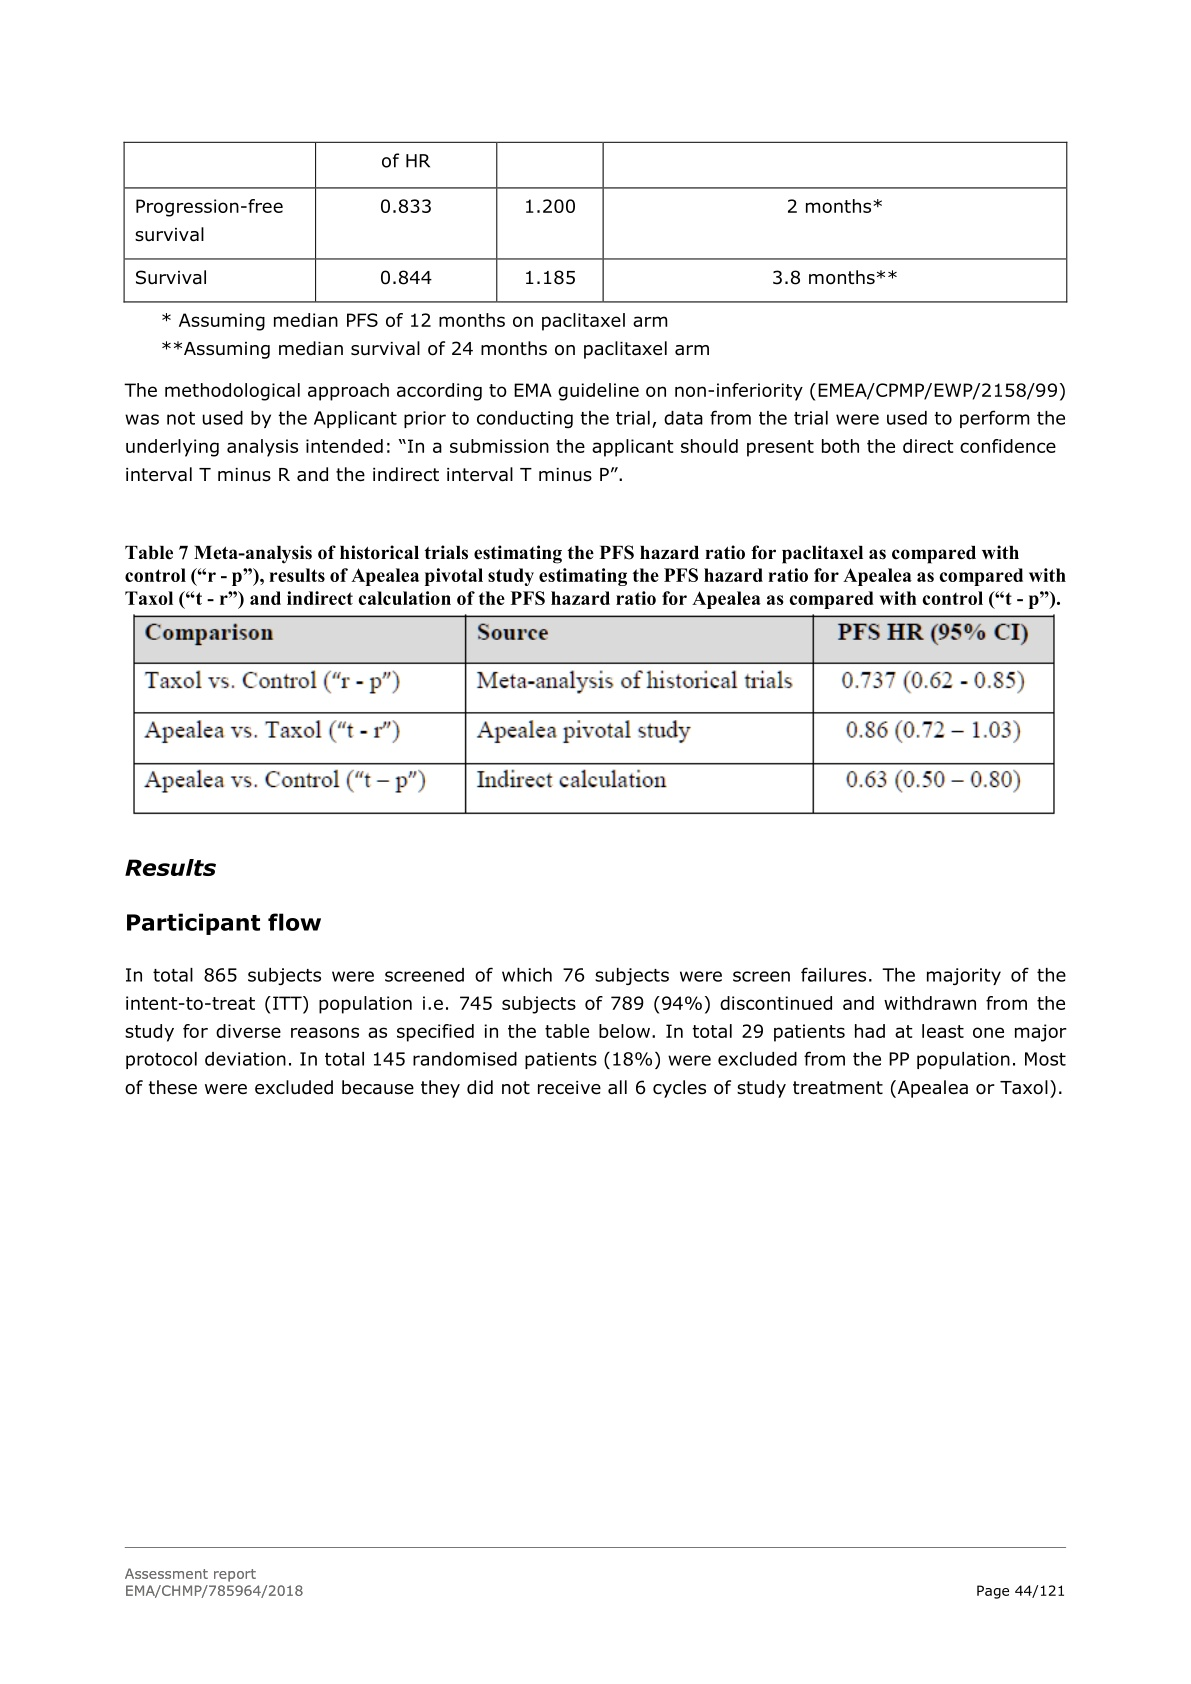full_lined: (131, 615, 1054, 816), (122, 140, 1069, 304)
